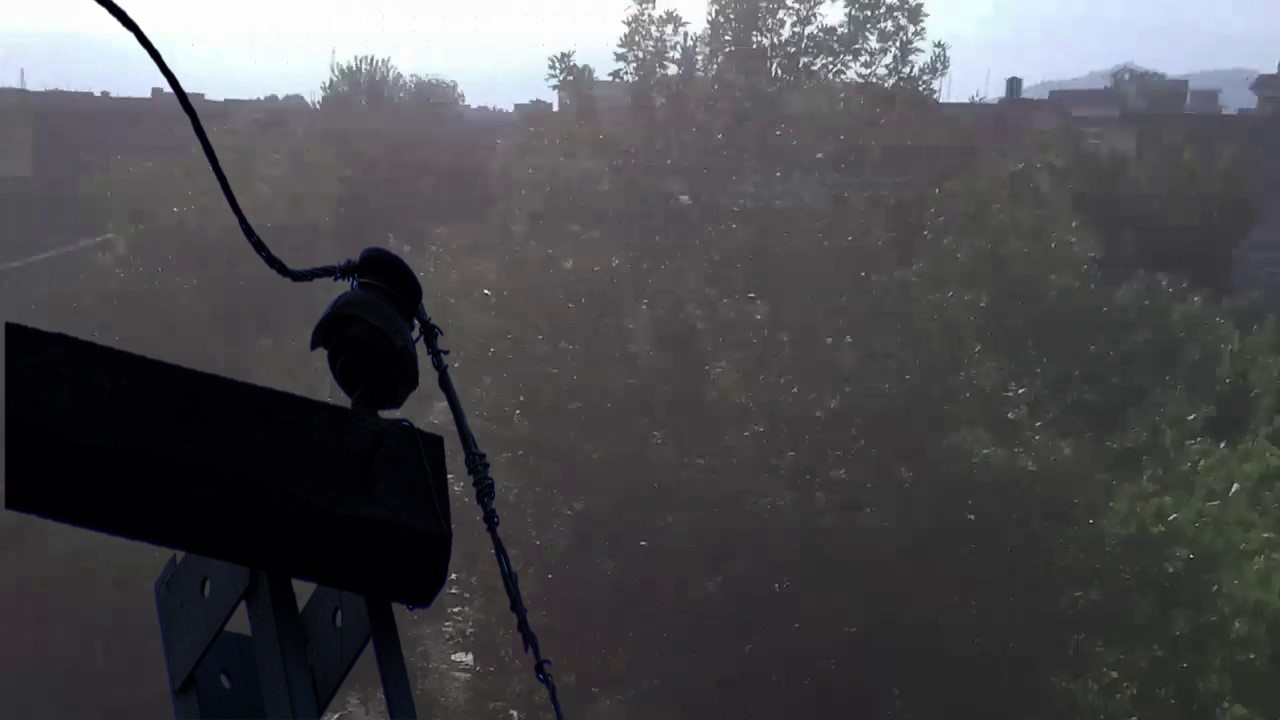defect_pin: (304, 246, 431, 419)
